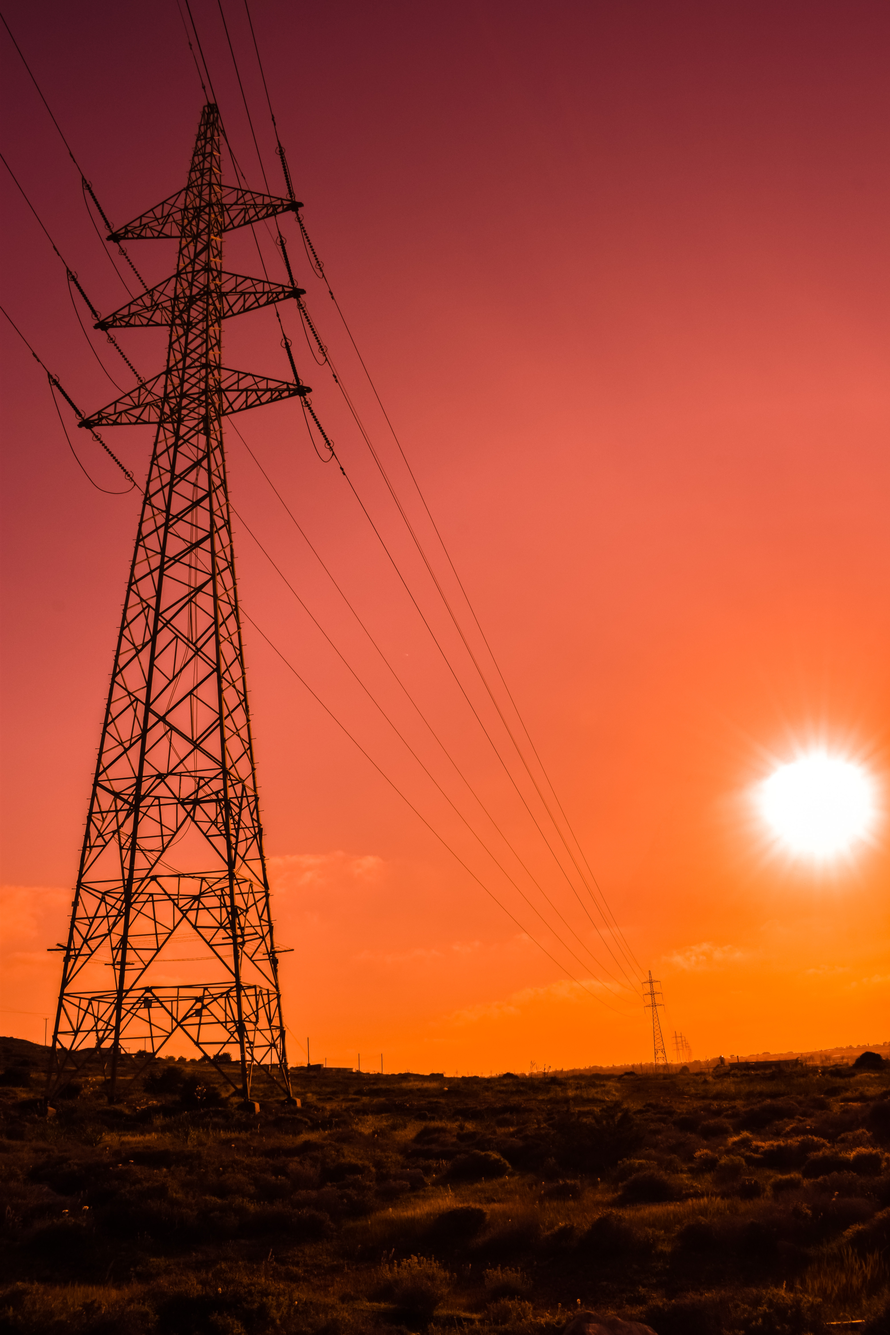insulator: (70, 158, 114, 233), (103, 328, 145, 385), (91, 429, 134, 482), (289, 212, 323, 269), (298, 396, 333, 451), (64, 268, 101, 320), (295, 296, 327, 356), (119, 243, 152, 296), (49, 375, 85, 421), (275, 236, 302, 288), (273, 143, 297, 200), (279, 334, 302, 387)
